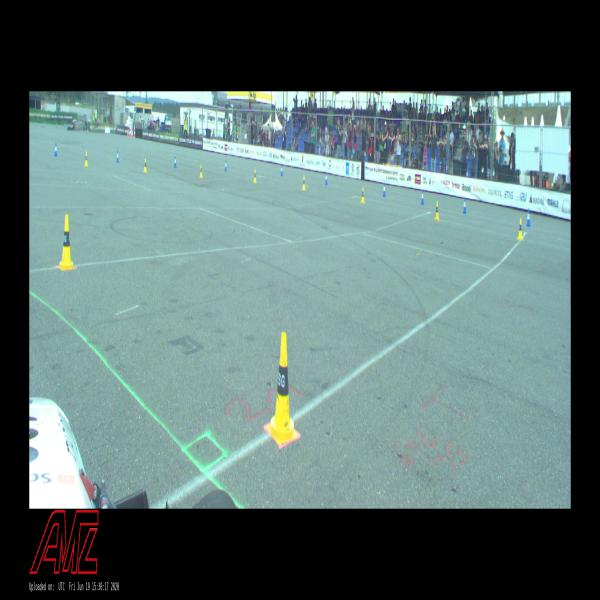blue_cone: (526, 208, 530, 226), (420, 189, 424, 204), (382, 183, 386, 197), (54, 143, 58, 156), (463, 198, 466, 214), (116, 150, 119, 162), (280, 164, 283, 176), (224, 160, 227, 171), (325, 173, 327, 184), (174, 157, 176, 168), (36, 122, 38, 126), (43, 123, 44, 127)
yellow_cone: (266, 332, 298, 444), (58, 214, 74, 270), (517, 218, 523, 240), (434, 201, 439, 220), (360, 186, 364, 204), (84, 151, 88, 166), (199, 165, 203, 177), (303, 176, 306, 190), (144, 159, 147, 172), (254, 169, 256, 183)
